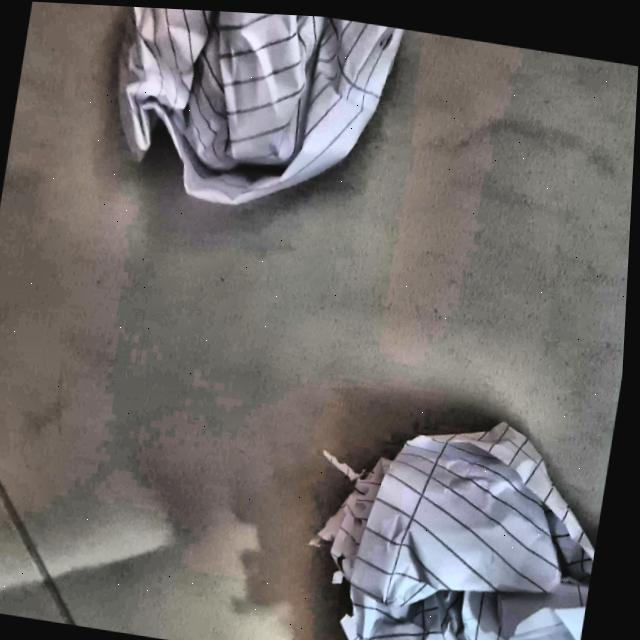paper: (297, 378, 619, 640), (94, 4, 412, 229)
